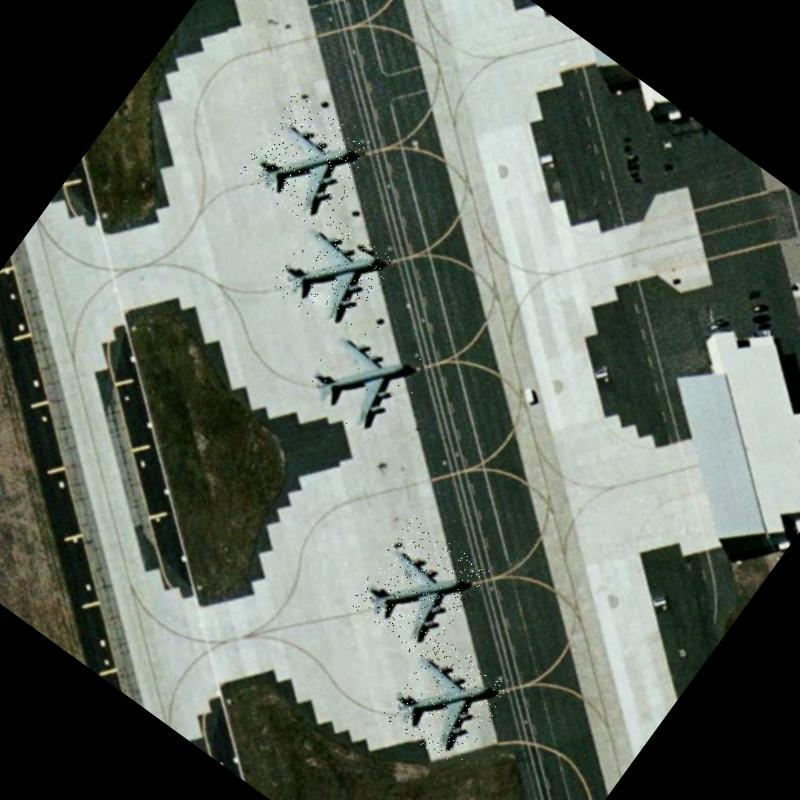A14: (346, 515, 489, 663), (234, 90, 380, 234), (298, 309, 432, 444), (380, 634, 514, 769), (268, 210, 397, 340)
